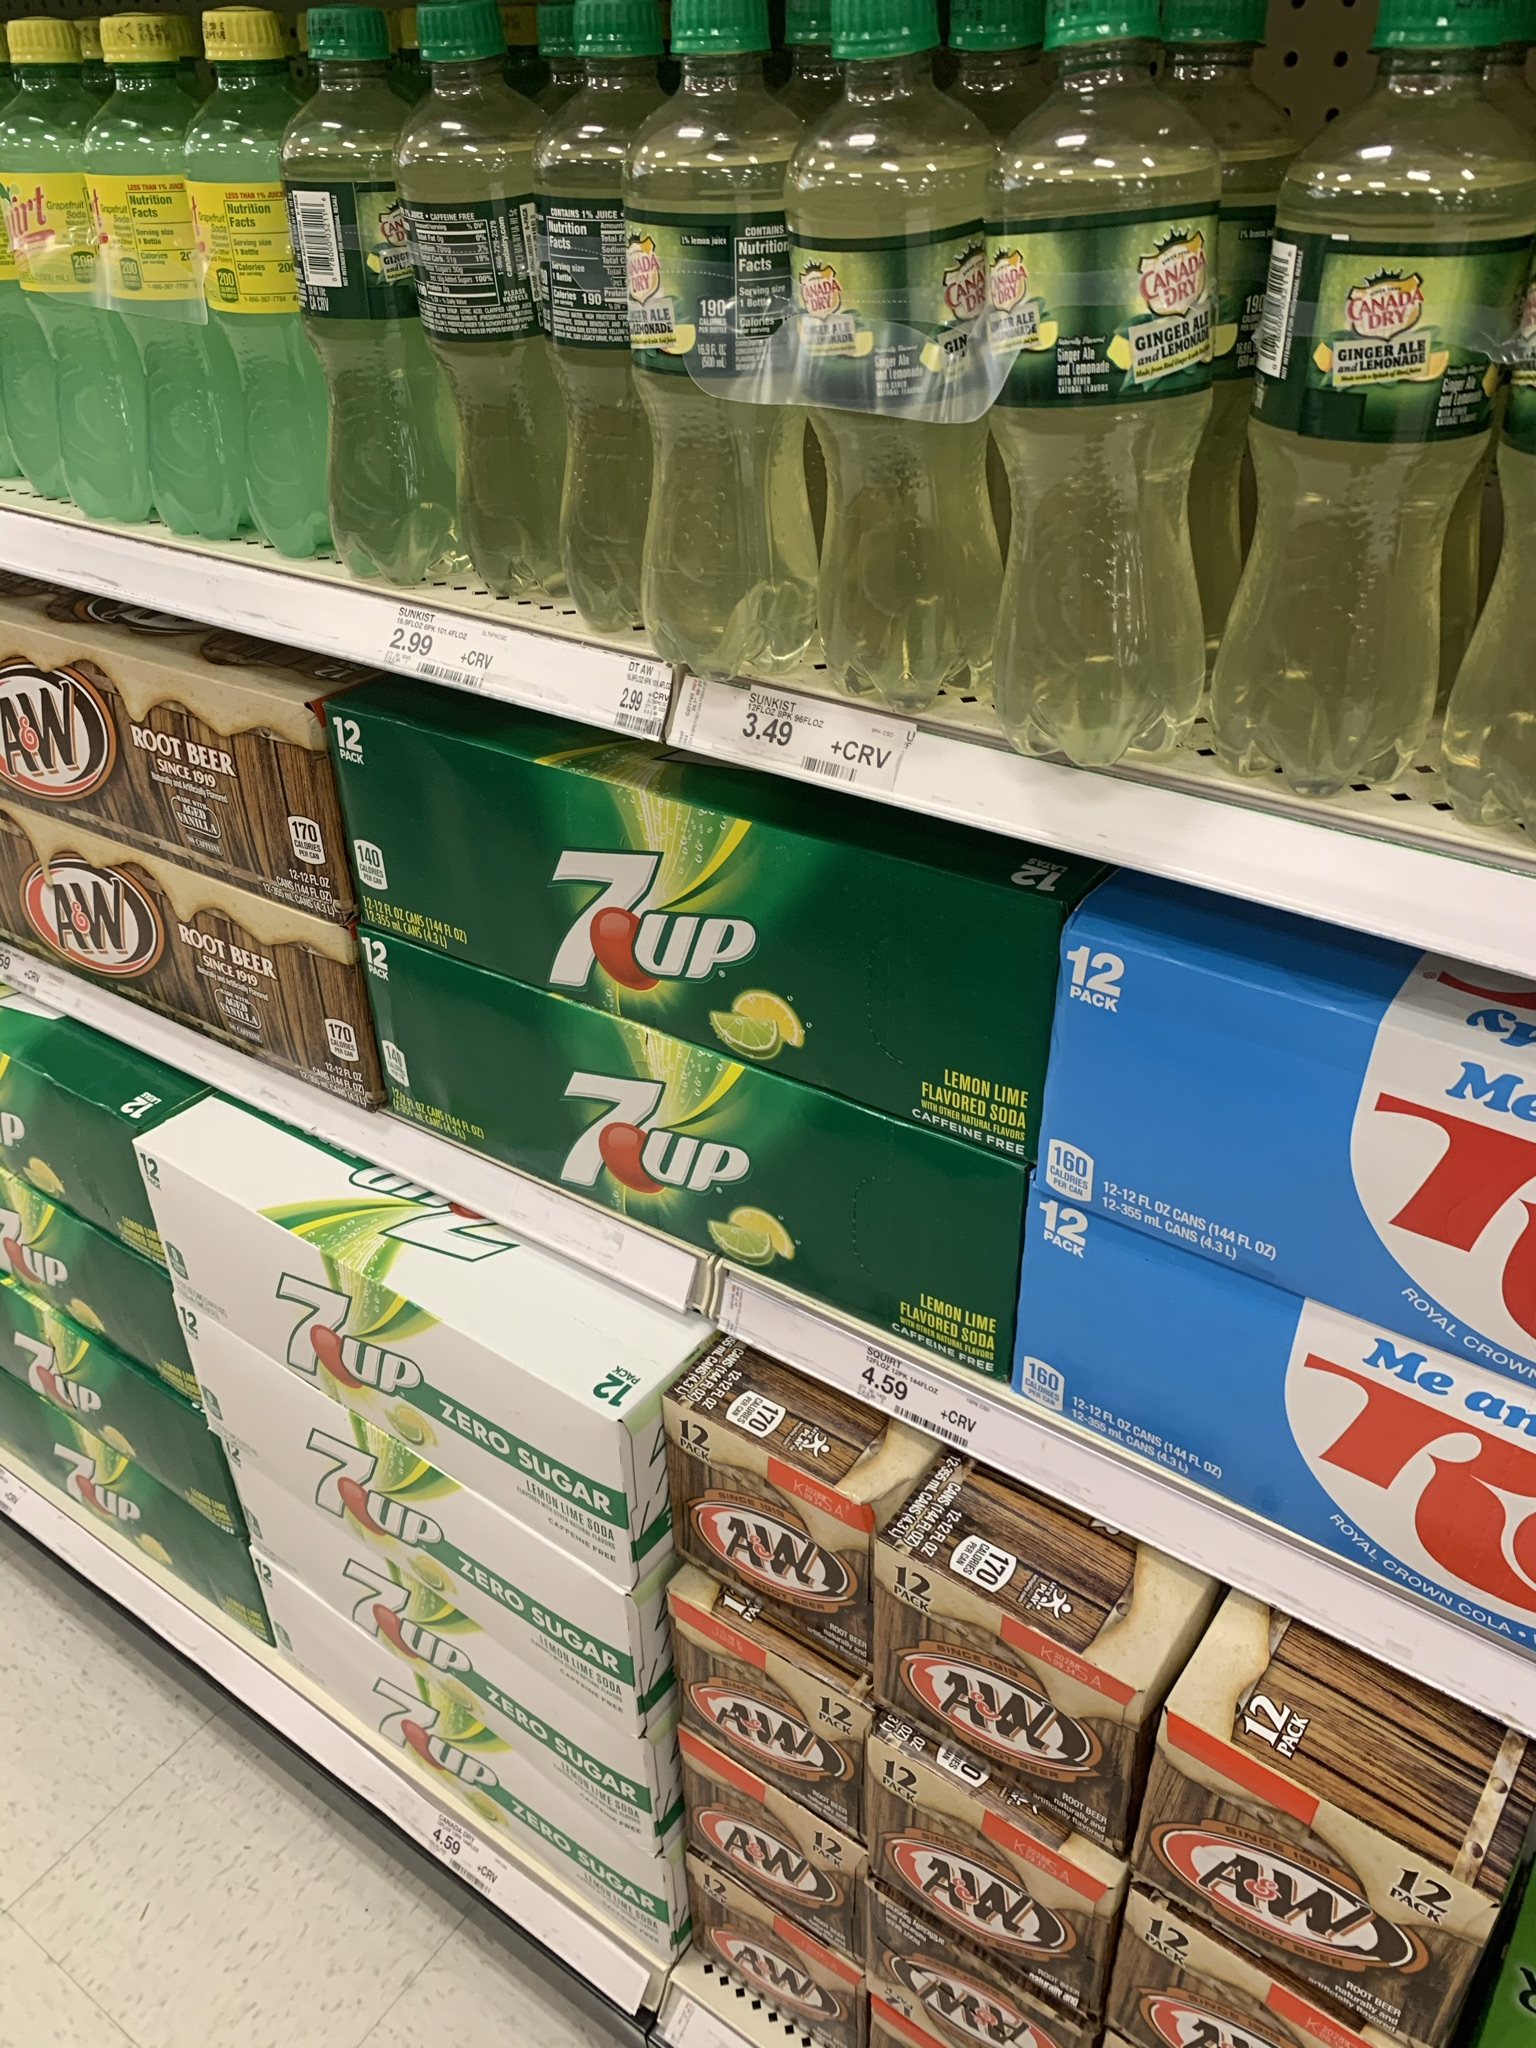Soda: (989, 5, 1204, 763), (797, 2, 992, 716), (629, 5, 816, 669), (295, 6, 449, 577), (405, 6, 545, 595)
